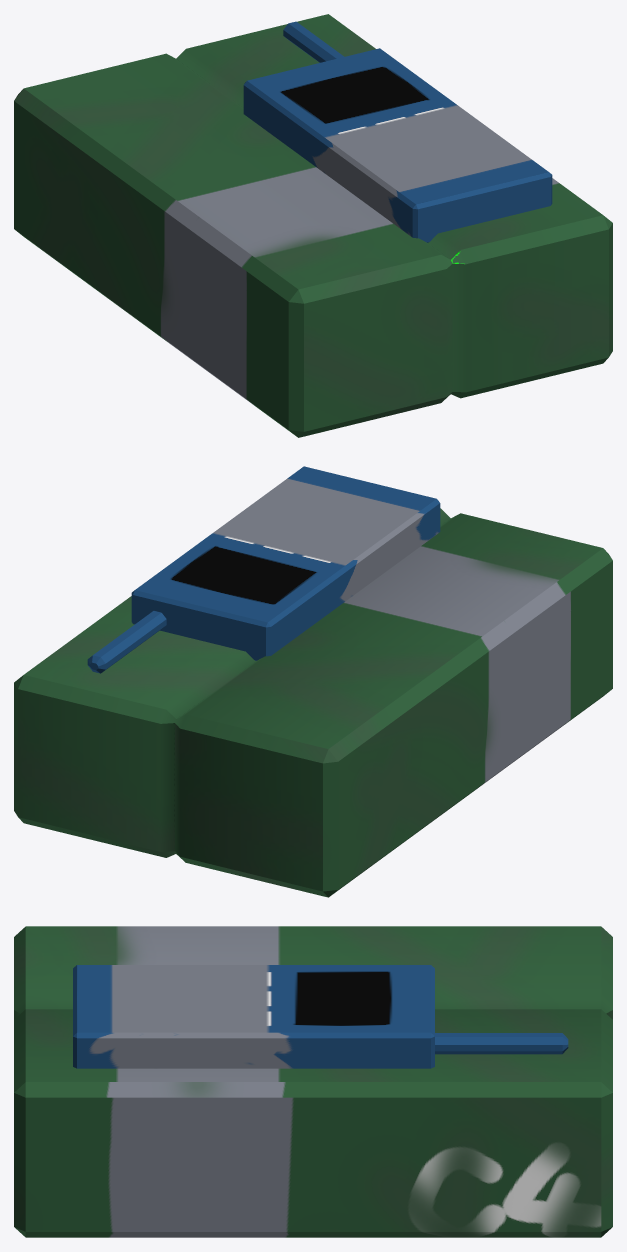
3 renders of one model, top to bottom at view 1: azimuth 30°, elevation 25°; view 2: azimuth 150°, elevation 25°; view 3: azimuth 270°, elevation 25°, orthographic. The views are drawn at different scales.
Visible parts, largest first — view 1: Box001, Box002, Box003; view 2: Box001, Box002, Box003; view 3: Box001, Box002, Box003.
Boxes of the visible parts, <box> form: Box001: <box>14,14,612,437</box>; Box002: <box>243,48,552,242</box>; Box003: <box>283,21,344,62</box>; Box001: <box>14,508,612,897</box>; Box002: <box>131,466,440,660</box>; Box003: <box>87,611,166,673</box>; Box001: <box>14,926,612,1237</box>; Box002: <box>73,965,434,1068</box>; Box003: <box>435,1033,568,1054</box>.
Size of the model in its own units: 22.43 by 34.27 by 11.97.
